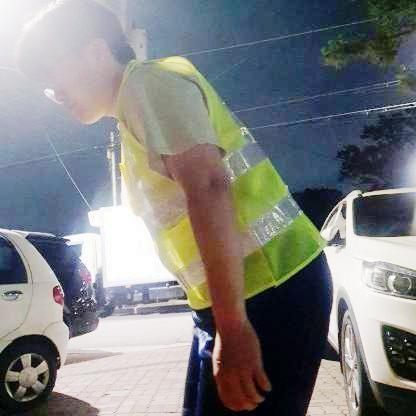no-helmet: (18, 2, 118, 92)
vest: (108, 53, 328, 313)
